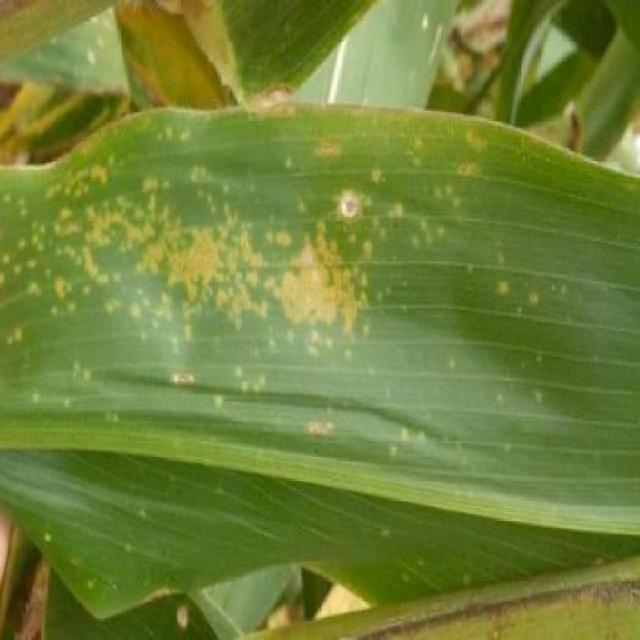Corn_Rust: (0, 92, 640, 608)
